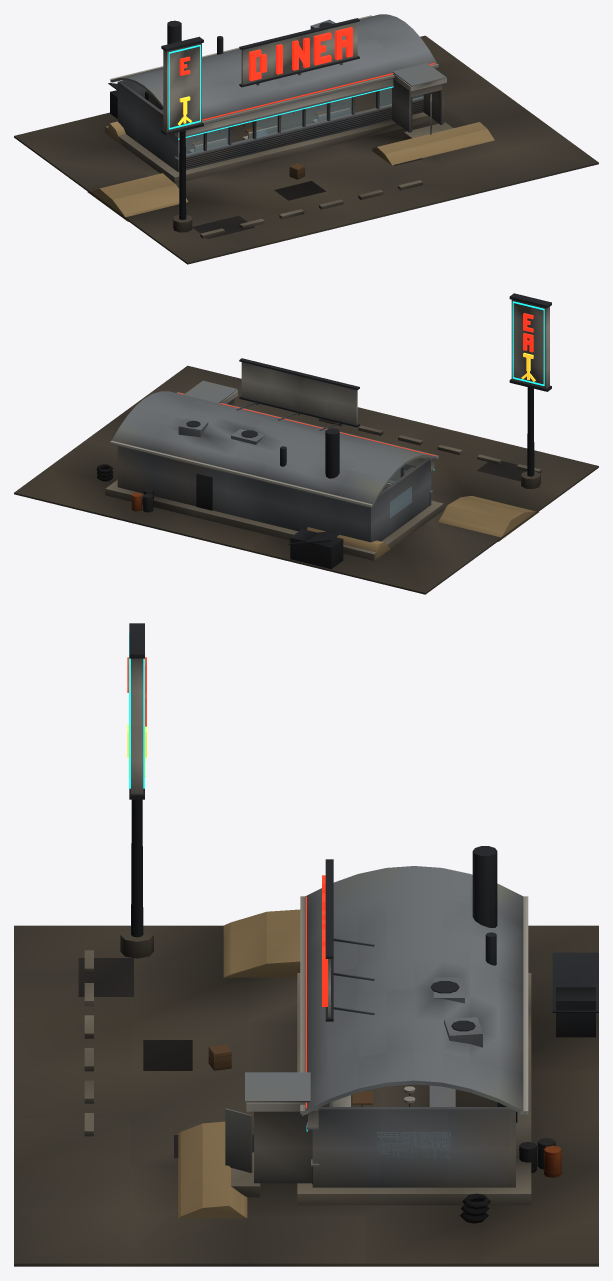
The model's file is diner.glb.
3 views of the same model, one above another, from view 1: azimuth 30°, elevation 25°; view 2: azimuth 150°, elevation 25°; view 3: azimuth 270°, elevation 25° (orthographic). The views are drawn at different scales.
Visible parts, largest first — view 1: concrete_dark, metal_bare, sand, paint, concrete, metal_dark, paint2, light_tail, glass, asphalt, light_boost, wood; view 2: metal_bare, concrete_dark, paint, metal_dark, concrete, sand, paint2, light_tail, asphalt, glass, light_boost; view 3: concrete_dark, metal_bare, metal_dark, sand, concrete, asphalt, paint2, paint, light_tail, wood.
Part boxes in pixels (<box>): concrete_dark: <box>14,35,598,264</box>; metal_bare: <box>110,14,446,171</box>; sand: <box>87,121,494,221</box>; paint: <box>163,22,357,131</box>; concrete: <box>105,112,452,238</box>; metal_dark: <box>108,18,423,219</box>; paint2: <box>110,15,446,152</box>; light_tail: <box>179,27,434,120</box>; glass: <box>137,88,423,154</box>; asphalt: <box>192,147,422,238</box>; light_boost: <box>168,44,393,139</box>; wood: <box>191,110,331,179</box>; metal_bare: <box>110,380,438,542</box>; concrete_dark: <box>14,365,598,594</box>; paint: <box>241,299,549,424</box>; metal_dark: <box>143,293,551,568</box>; concrete: <box>105,418,541,560</box>; sand: <box>307,496,538,559</box>; paint2: <box>110,390,438,507</box>; light_tail: <box>178,313,533,455</box>; asphalt: <box>404,461,526,481</box>; glass: <box>390,465,413,517</box>; light_boost: <box>433,301,544,470</box>; concrete_dark: <box>14,925,598,1266</box>; metal_bare: <box>225,866,526,1187</box>; metal_dark: <box>129,623,598,1184</box>; sand: <box>178,909,300,1218</box>; concrete: <box>84,950,531,1205</box>; asphalt: <box>78,958,253,1158</box>; paint2: <box>246,896,528,1127</box>; paint: <box>131,658,330,1017</box>; light_tail: <box>127,657,327,1108</box>; wood: <box>208,1044,372,1104</box>.
Size of what is drawn, in the model's own units: 26 by 11.35 by 19.
